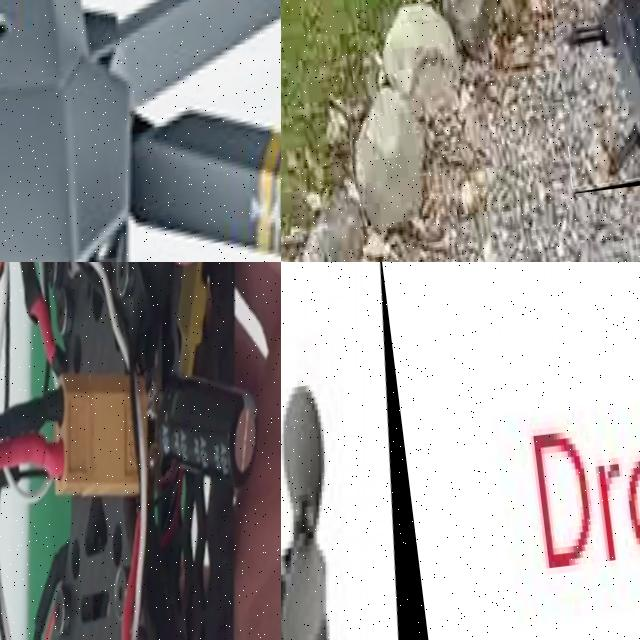drone: (0, 262, 281, 640), (0, 0, 281, 262), (281, 262, 446, 640), (545, 0, 640, 193)
